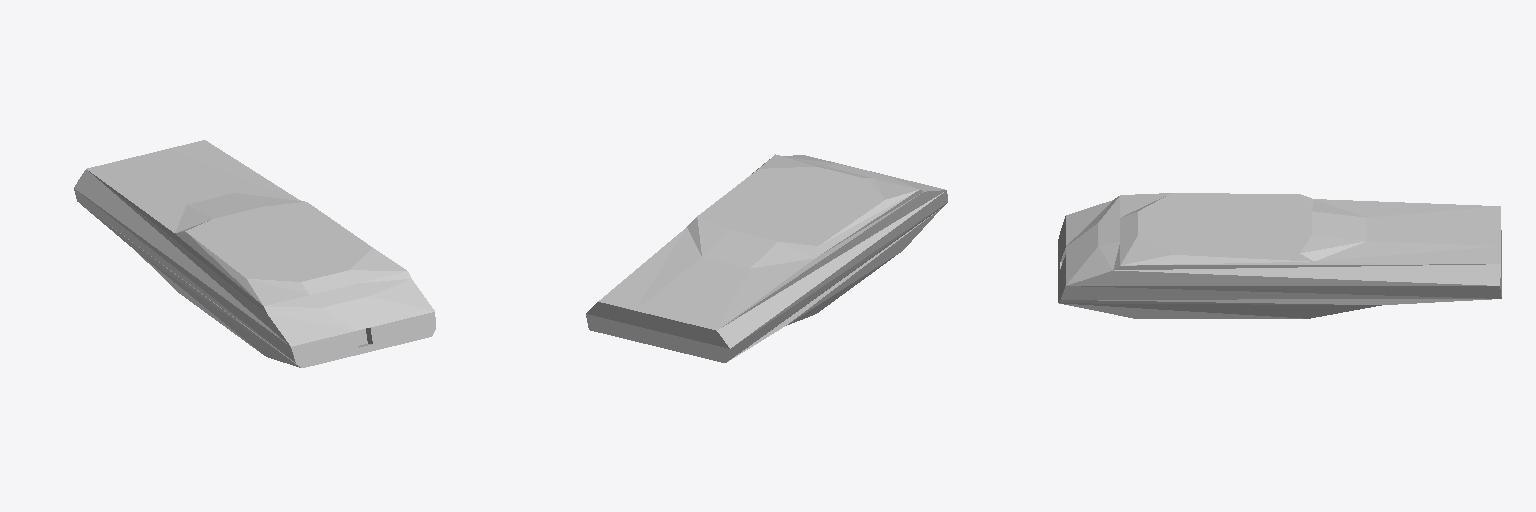
File: turret.obj
3 renders of one model, left to right at view 1: azimuth 30°, elevation 25°; view 2: azimuth 150°, elevation 25°; view 3: azimuth 270°, elevation 25°, orthographic.
Parts seen in each view (by area): view 1: Cube.001_Cube.002; view 2: Cube.001_Cube.002; view 3: Cube.001_Cube.002.
Boxes of the visible parts, box(x1,y1,x2,y2) form: Cube.001_Cube.002: box(74, 140, 435, 367); Cube.001_Cube.002: box(586, 154, 947, 362); Cube.001_Cube.002: box(1058, 193, 1501, 318).
Bounding box in the file's own units: 2 × 0.8517 × 5.32.